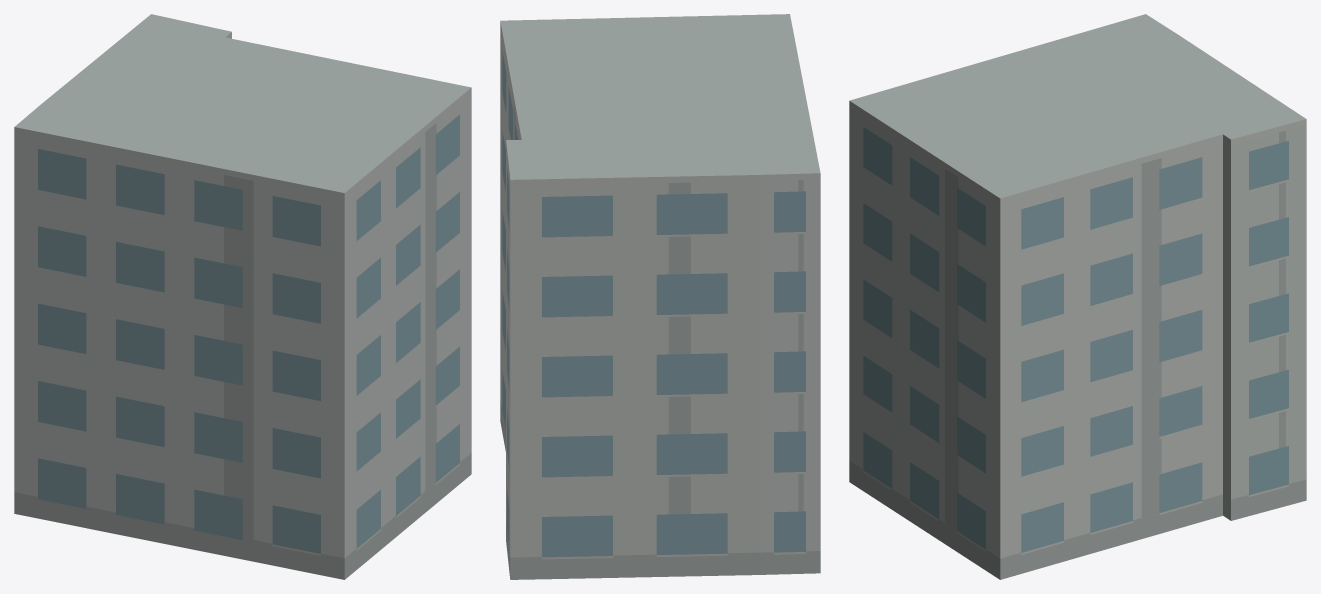
Rendered from survey-upis-32732353.glb.
3 renders of one model, left to right at view 1: azimuth 30°, elevation 25°; view 2: azimuth 150°, elevation 25°; view 3: azimuth 270°, elevation 25°, orthographic. The views are drawn at different scales.
Parts seen in each view (by area): view 1: survey-upis-32732353.tmp; view 2: survey-upis-32732353.tmp; view 3: survey-upis-32732353.tmp.
Boxes of the visible parts, <box> form: survey-upis-32732353.tmp: <box>14,14,471,579</box>; survey-upis-32732353.tmp: <box>500,14,820,579</box>; survey-upis-32732353.tmp: <box>849,14,1306,579</box>.
Size of the model in its own units: 16.19 by 15.6 by 16.96.
